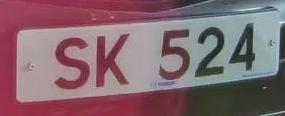2: (192, 22, 228, 81)
4: (226, 15, 262, 76)
5: (151, 20, 192, 84)
K: (91, 27, 138, 95)
S: (48, 31, 95, 96)
